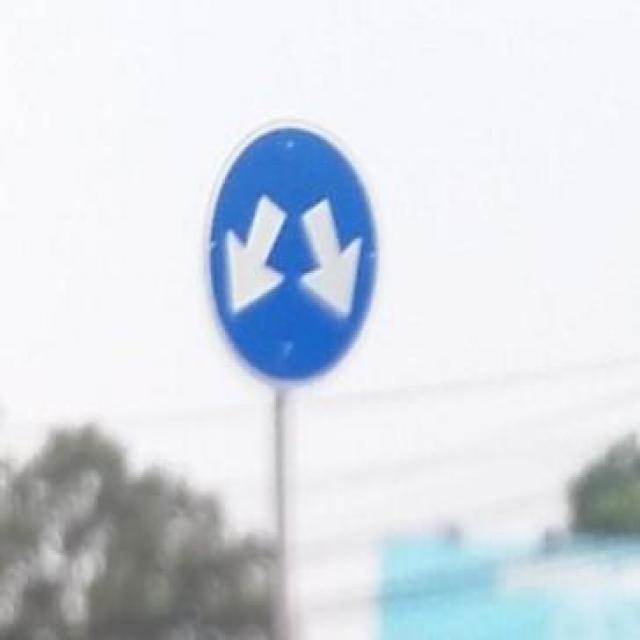traffic sign: (200, 124, 380, 383)
